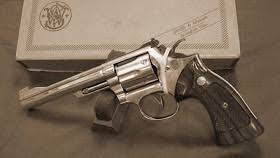gun: (18, 38, 267, 145)
